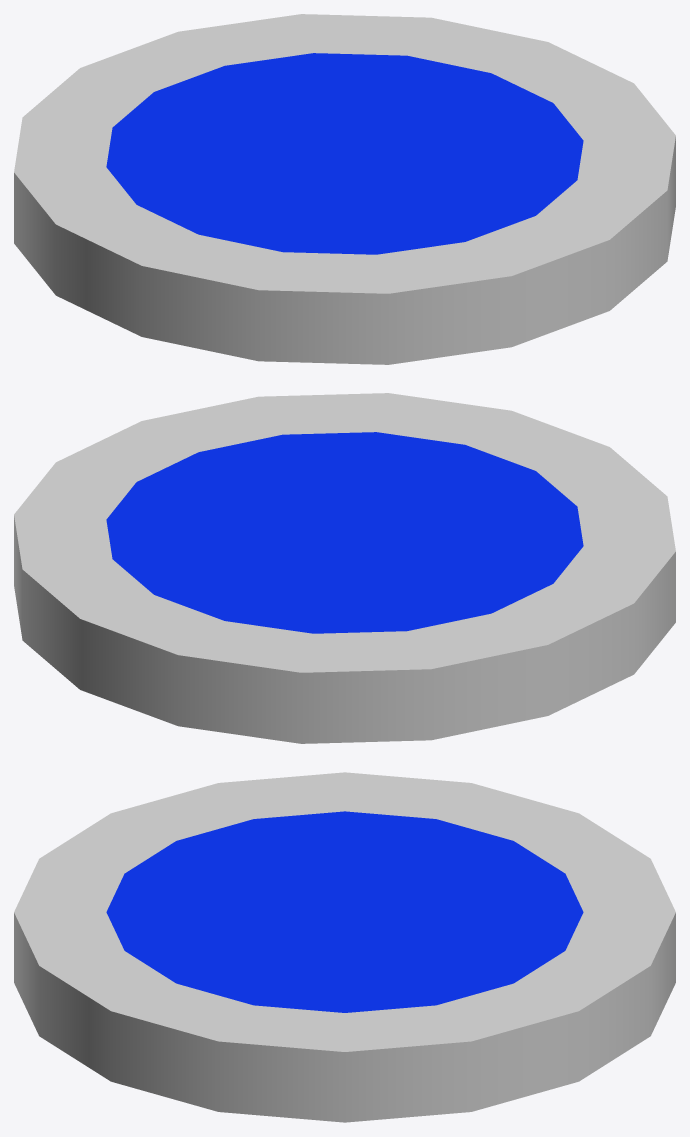
Rendered from map_default_location.obj.
The picture shows the model from 3 angles, top to bottom: view 1: azimuth 30°, elevation 25°; view 2: azimuth 150°, elevation 25°; view 3: azimuth 270°, elevation 25°; orthographic projection.
Parts seen in each view (by area): view 1: map_default_location; view 2: map_default_location; view 3: map_default_location.
Part boxes in pixels (x1,y1,x2,y2): map_default_location: (14,14,675,364); map_default_location: (14,393,675,743); map_default_location: (14,772,675,1122).
Size of the model in its own units: 2.44 by 0.2867 by 2.44.
